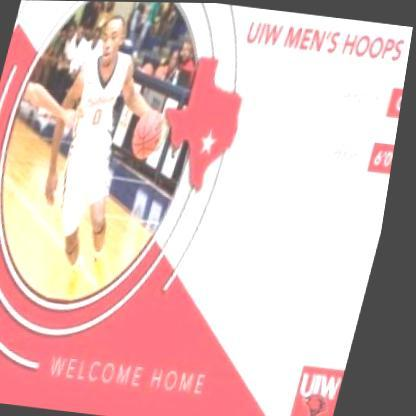basketball: (118, 100, 179, 162)
